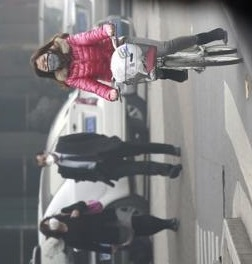person: (30, 21, 229, 104), (33, 132, 184, 187), (38, 200, 182, 254)
